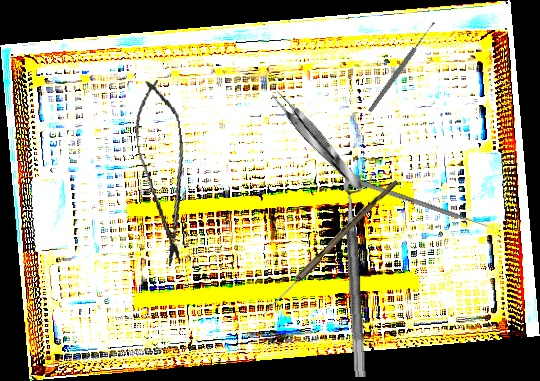Fixation Ring: (342, 173, 384, 378)
Micro Scissor: (128, 77, 200, 268)
Pusher: (352, 177, 496, 232)
Surgical Spoon: (260, 176, 399, 319), (367, 20, 437, 114)
Tissue Forceps: (267, 87, 368, 195)
